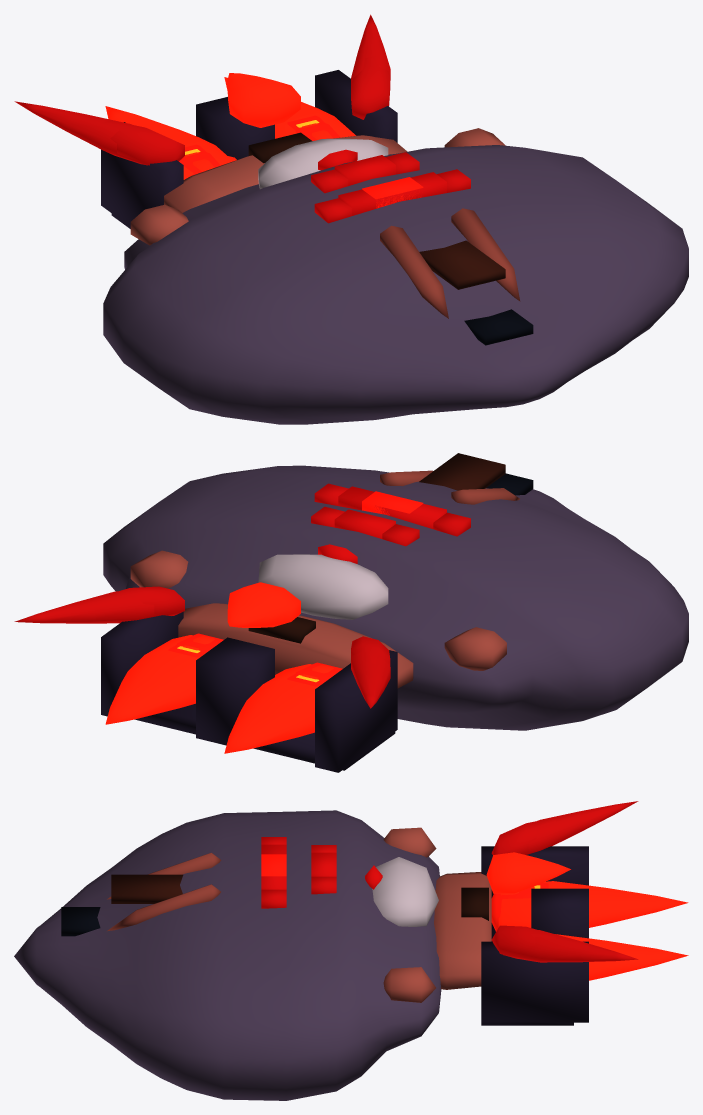
The model's file is newshu-45.glb.
3 renders of one model, top to bottom at view 1: azimuth 30°, elevation 25°; view 2: azimuth 150°, elevation 25°; view 3: azimuth 270°, elevation 25°, orthographic. The views are drawn at different scales.
Visible parts, largest first — view 1: newshu-45, newshu-45-flame-49, newshu-45-flame-51, newshu-45-flame-45; view 2: newshu-45, newshu-45-flame-49, newshu-45-flame-51, newshu-45-flame-45; view 3: newshu-45, newshu-45-flame-49, newshu-45-flame-51, newshu-45-flame-45.
Boxes of the visible parts, left/top/right/bottom form: newshu-45: left=101, top=70, right=688, bottom=424; newshu-45-flame-49: left=14, top=14, right=390, bottom=179; newshu-45-flame-51: left=100, top=55, right=390, bottom=175; newshu-45-flame-45: left=179, top=122, right=340, bottom=174; newshu-45: left=101, top=453, right=688, bottom=772; newshu-45-flame-49: left=14, top=582, right=390, bottom=753; newshu-45-flame-51: left=100, top=586, right=390, bottom=686; newshu-45-flame-45: left=177, top=633, right=342, bottom=680; newshu-45: left=14, top=810, right=588, bottom=1100; newshu-45-flame-49: left=486, top=801, right=688, bottom=980; newshu-45-flame-51: left=491, top=817, right=555, bottom=956; newshu-45-flame-45: left=491, top=887, right=531, bottom=931.
Size of the model in its own units: 1.84 by 0.672 by 2.25.
